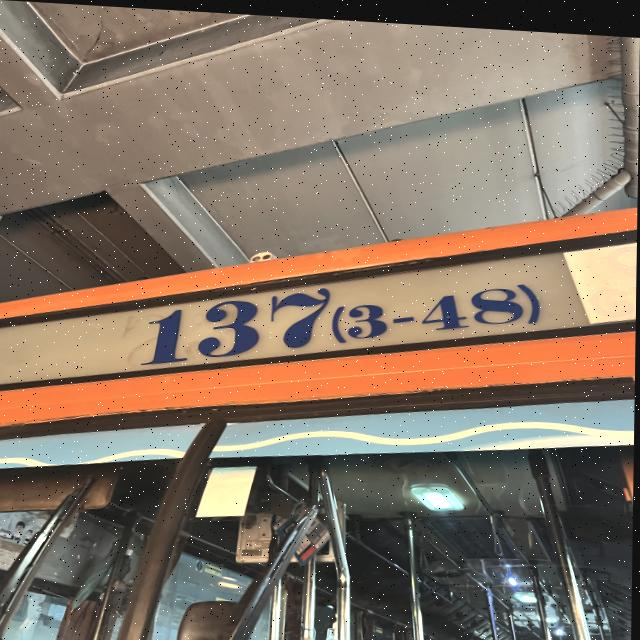BMTA-bus: (0, 199, 638, 640)
Bus Line Number: (130, 245, 549, 371)
